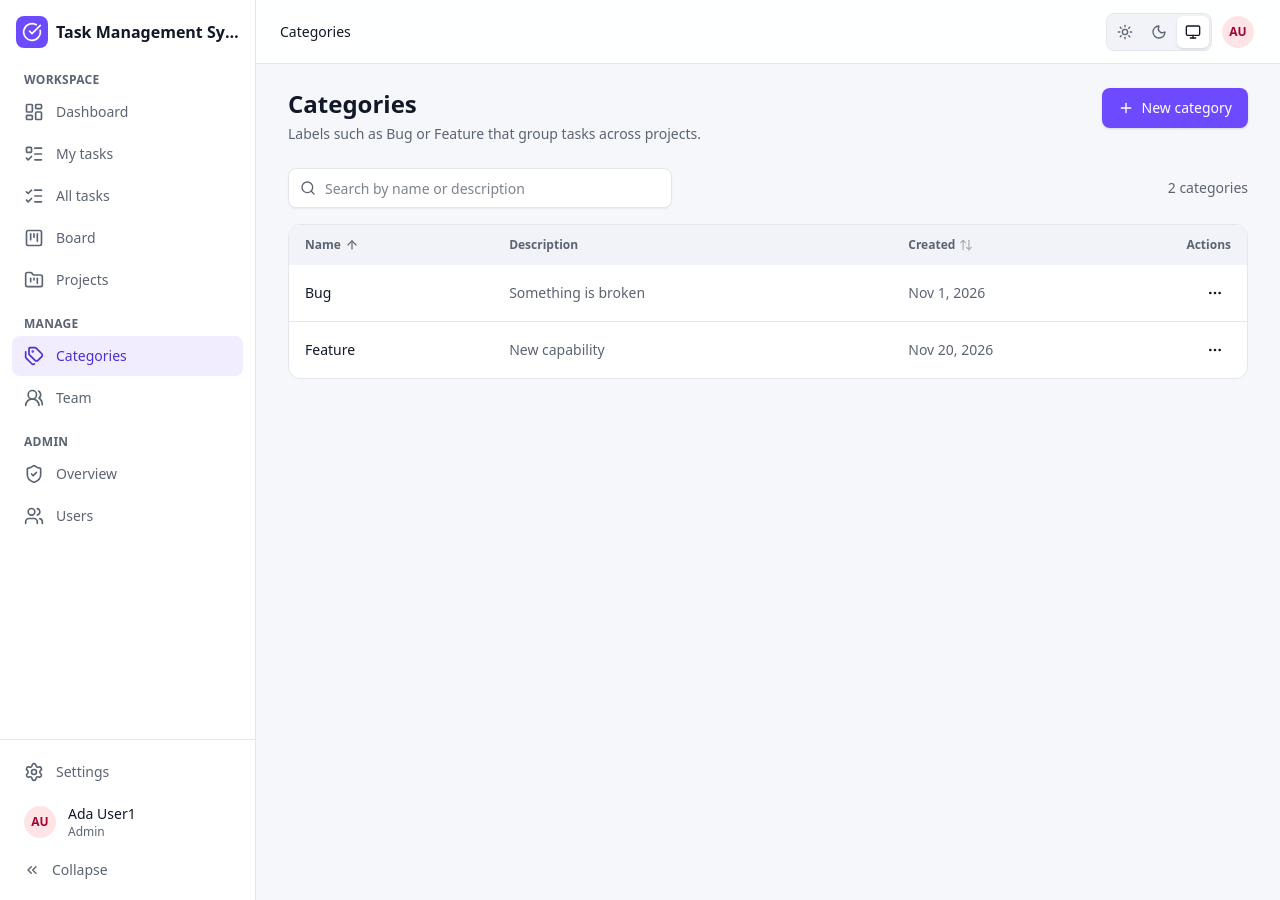
Categories: writing (admin) › deletes after a confirmation that says how many tasks use the category
Expected: the cell "Bug" is shown, [289, 265, 493, 322]
Click the button named "Actions for Bug". click: (1215, 293)
box: [1199, 277, 1231, 309]
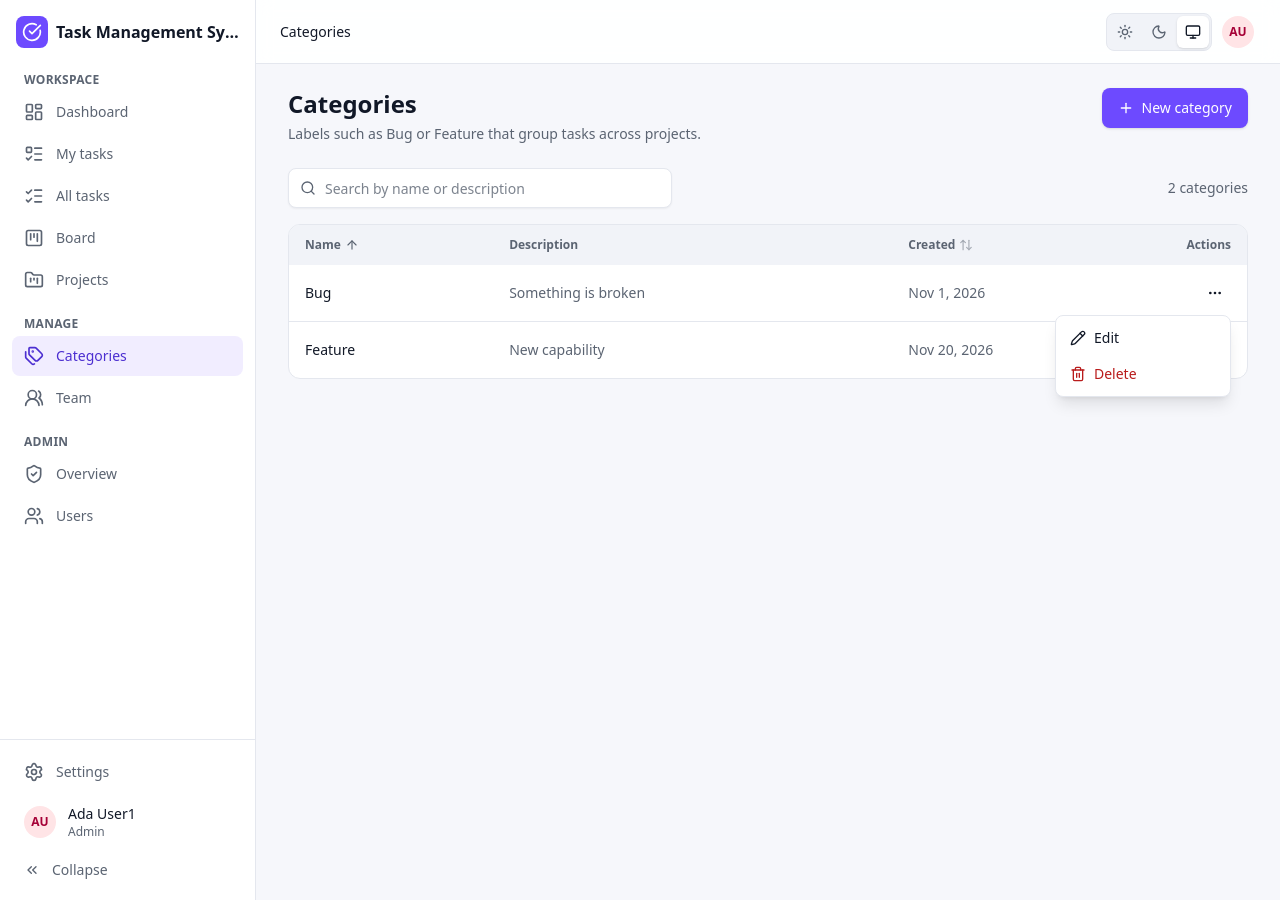
Click the menu item "Delete". click: (1103, 374)
box: [1070, 364, 1137, 383]
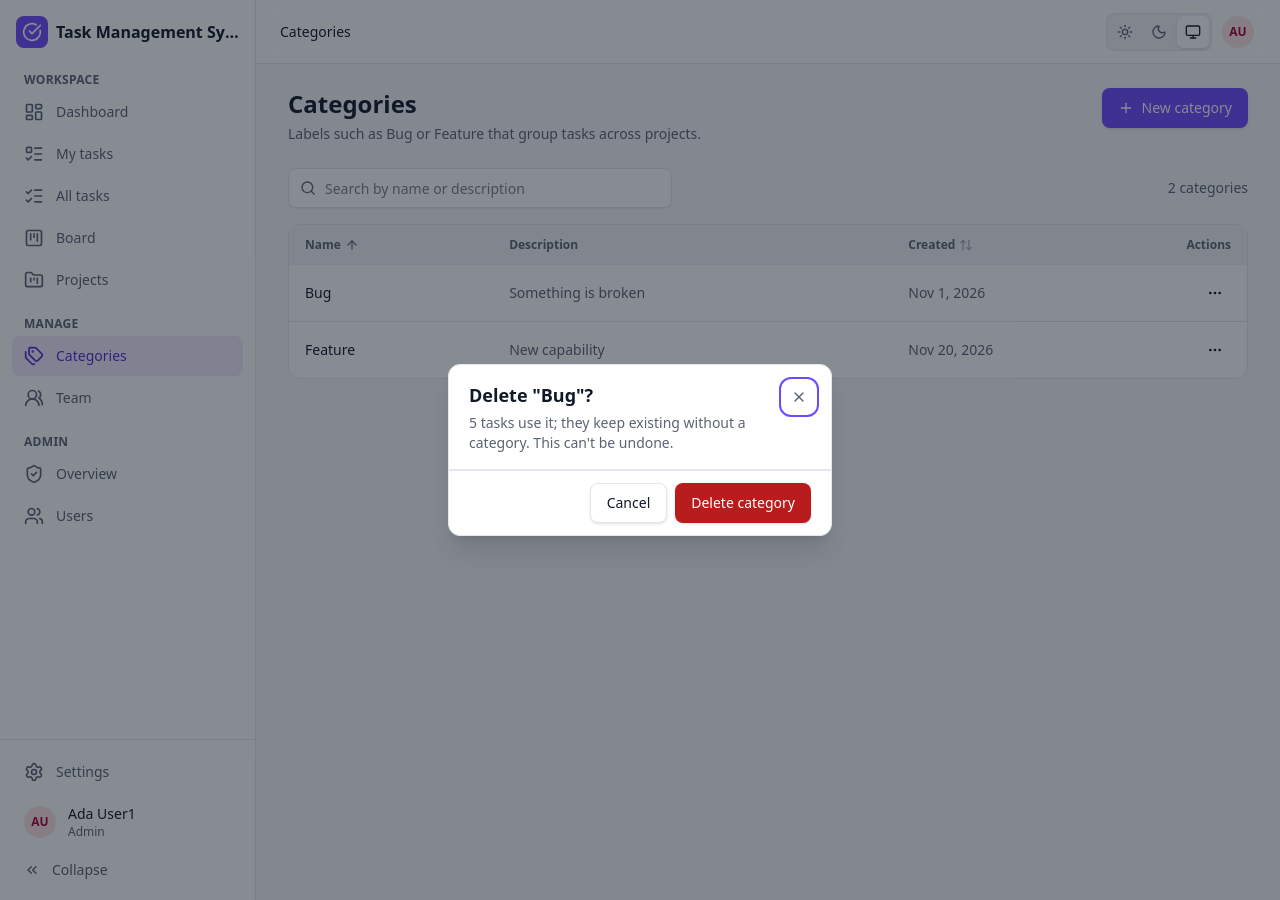
Result: the text "5 tasks use it; they keep existing without a category. This can't be undone." is shown at [469, 413, 767, 453]
Click the button "Delete category". click: (743, 503)
box: [675, 483, 811, 523]
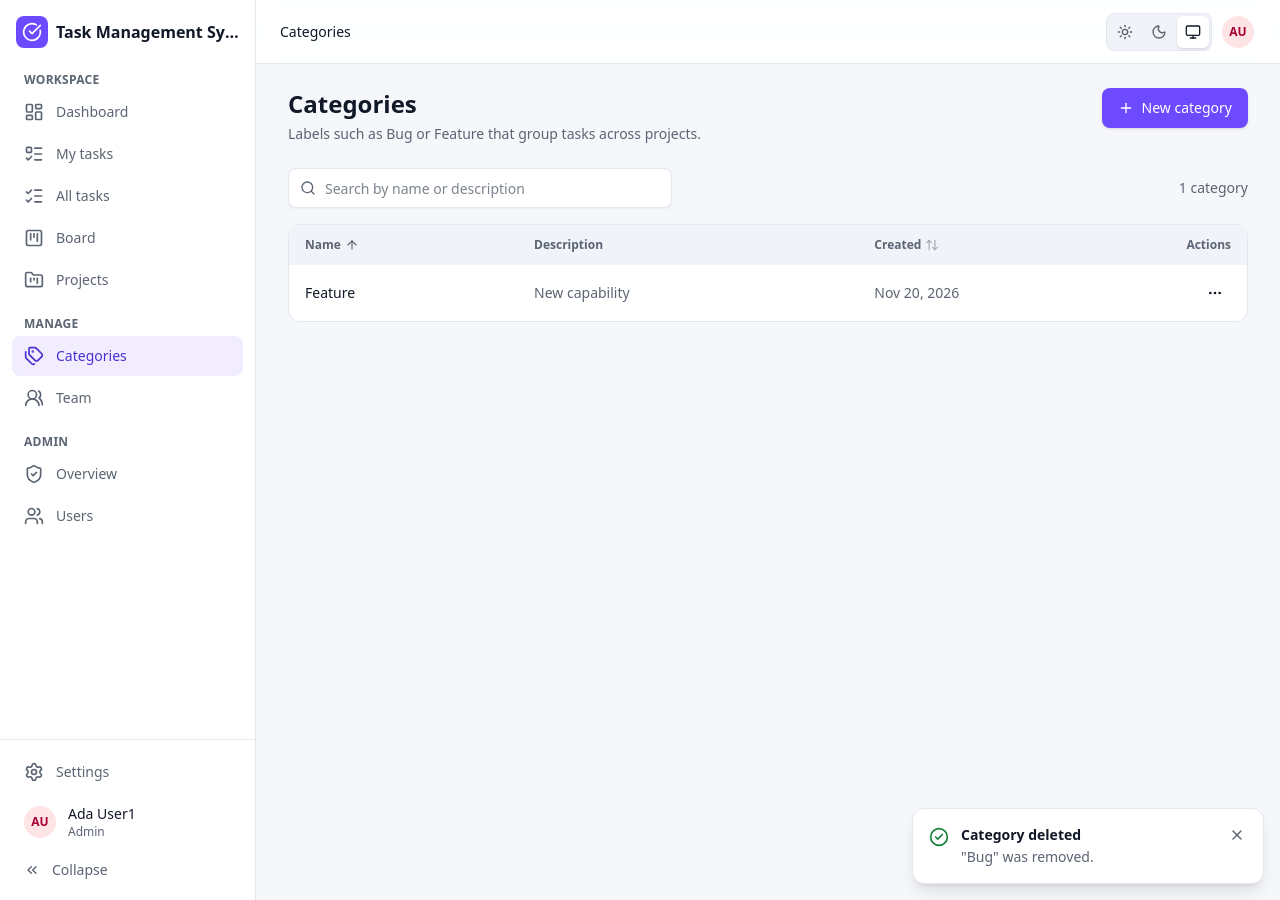
Result: the text "Category deleted" is shown at [961, 825, 1081, 844]
